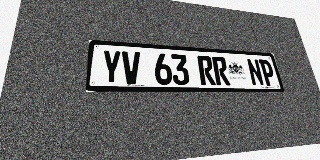3: (171, 54, 190, 85)
6: (154, 53, 173, 85)
N: (246, 58, 265, 86)
P: (258, 59, 277, 86)
R: (197, 55, 216, 85), (212, 56, 231, 85)
V: (122, 51, 141, 85)
Y: (101, 50, 121, 84)
